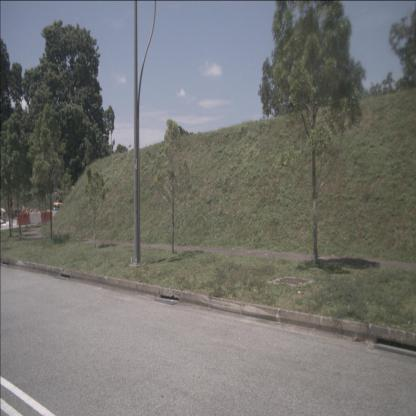barrier: (16, 213, 31, 226), (29, 212, 42, 224), (40, 211, 52, 224)
